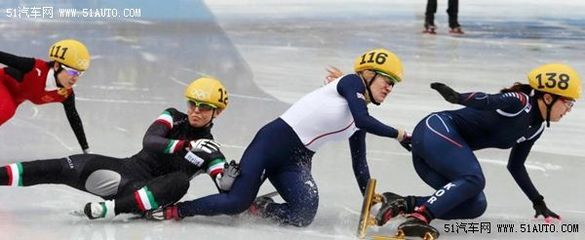fall: (10, 65, 245, 225)
